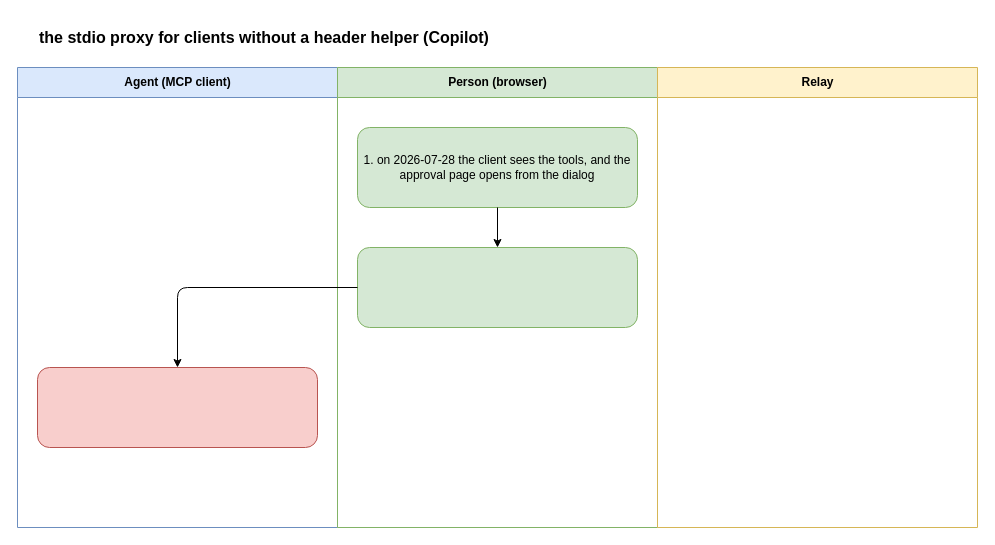
Some shapes in this 995 by 545 pixel diagram are drawn without their labels. The shapes that lost their labels are listed below. From the top down, each one's centre as x and y in pixels, then its label:
the point at 497,287: 2. on 2025-06-18 the approval falls back to a code the person types
the point at 177,407: 3. a revoked token gets a fixed answer, and the token never shows
